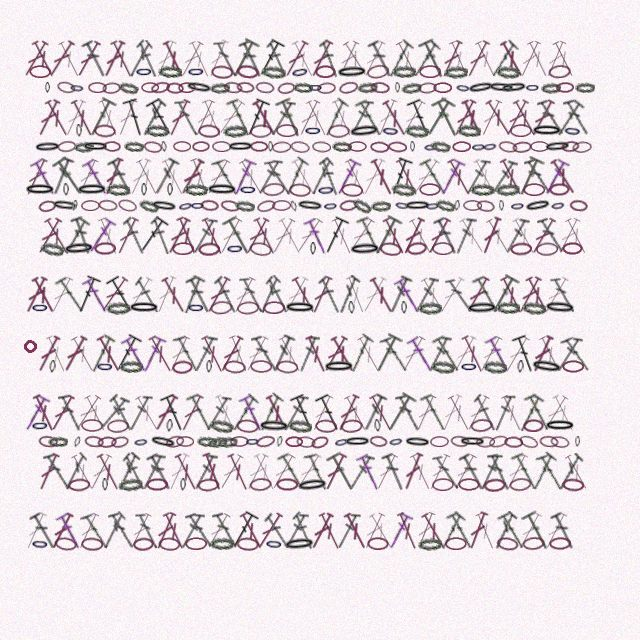chain: (530, 358, 563, 375), (348, 123, 381, 139), (296, 477, 329, 493), (283, 536, 316, 552), (63, 241, 95, 256), (544, 300, 576, 315), (336, 65, 368, 79), (349, 242, 381, 256), (466, 301, 498, 315), (258, 419, 290, 433), (149, 434, 177, 450), (185, 80, 213, 95), (467, 80, 495, 95), (524, 198, 552, 213), (531, 124, 563, 137), (24, 183, 56, 196), (76, 183, 108, 196), (206, 183, 238, 196), (128, 301, 160, 314), (284, 301, 316, 314), (323, 360, 355, 373), (544, 419, 576, 432), (366, 63, 390, 80), (40, 241, 65, 257), (209, 418, 234, 434), (351, 197, 373, 215), (150, 199, 178, 213), (391, 182, 416, 197), (495, 182, 520, 197), (118, 477, 143, 492), (249, 241, 272, 257), (379, 241, 402, 257), (54, 536, 77, 552), (496, 536, 519, 552), (500, 81, 528, 94), (51, 199, 79, 212), (296, 199, 324, 212), (138, 198, 160, 214), (488, 81, 515, 94), (544, 140, 571, 153), (261, 65, 286, 79), (236, 64, 259, 79), (548, 64, 571, 79), (262, 182, 285, 197), (210, 300, 233, 315), (470, 418, 493, 433), (249, 477, 272, 492), (509, 477, 532, 492), (522, 536, 545, 551), (444, 65, 468, 79), (496, 65, 520, 79), (223, 124, 247, 138), (405, 124, 429, 138), (256, 198, 277, 214), (106, 301, 130, 315), (418, 301, 442, 315), (522, 301, 546, 315), (431, 360, 455, 374), (483, 360, 507, 374), (288, 419, 312, 433), (518, 434, 539, 450), (418, 537, 442, 551), (406, 241, 428, 256), (34, 141, 61, 153), (404, 436, 431, 448), (223, 360, 246, 374), (236, 419, 259, 433), (340, 419, 363, 433), (197, 478, 220, 492), (483, 478, 506, 492), (158, 537, 181, 551), (236, 537, 259, 551), (290, 64, 310, 80), (310, 434, 330, 450), (150, 80, 171, 95), (338, 80, 359, 95), (117, 198, 138, 213), (435, 198, 456, 213), (255, 434, 276, 449), (488, 434, 509, 449), (158, 65, 182, 78), (392, 65, 416, 78), (145, 124, 169, 137), (457, 124, 481, 137), (106, 183, 130, 196), (184, 183, 208, 196), (470, 183, 494, 196), (496, 301, 520, 314), (119, 360, 143, 373), (210, 537, 234, 550), (211, 65, 233, 79), (94, 124, 116, 138), (198, 124, 220, 138), (250, 124, 272, 138), (328, 124, 350, 138), (289, 183, 311, 197), (341, 183, 363, 197), (198, 242, 220, 256), (510, 242, 532, 256), (536, 242, 558, 256), (237, 301, 259, 315), (276, 360, 298, 374), (107, 419, 129, 433), (315, 419, 337, 433), (68, 478, 90, 492), (562, 478, 584, 492), (81, 537, 103, 551), (56, 80, 76, 95), (165, 434, 185, 449), (82, 141, 109, 152), (227, 141, 254, 152), (404, 200, 431, 211), (344, 436, 371, 447), (459, 436, 486, 447), (118, 81, 139, 95), (401, 81, 422, 95), (172, 360, 193, 374), (207, 435, 228, 449), (133, 537, 154, 551), (29, 65, 51, 78), (419, 65, 441, 78), (276, 124, 298, 137), (510, 124, 532, 137), (419, 183, 441, 196), (523, 183, 545, 196), (94, 242, 116, 255), (172, 242, 194, 255), (432, 242, 454, 255), (263, 301, 285, 314), (250, 360, 272, 373), (562, 360, 584, 373), (81, 419, 103, 432), (146, 478, 168, 491), (276, 478, 298, 491), (432, 478, 454, 491), (458, 478, 480, 491), (185, 537, 207, 550), (367, 537, 389, 550), (445, 537, 467, 550), (549, 537, 571, 550), (143, 140, 163, 154), (290, 140, 310, 154), (498, 140, 518, 154), (220, 199, 240, 213), (110, 435, 130, 449), (550, 435, 570, 449), (315, 65, 336, 78), (357, 81, 378, 94), (430, 140, 451, 153), (549, 183, 570, 196), (562, 242, 583, 255), (523, 419, 544, 432), (277, 81, 296, 95), (381, 124, 400, 138), (563, 124, 582, 138), (38, 199, 57, 213), (476, 199, 495, 213), (223, 81, 243, 94), (255, 81, 275, 94), (370, 81, 390, 94), (57, 140, 77, 153), (98, 199, 118, 212), (38, 435, 58, 448), (84, 435, 104, 448), (450, 435, 470, 448), (539, 435, 559, 448), (317, 183, 335, 197), (217, 436, 238, 448), (31, 537, 49, 551), (265, 537, 283, 551), (236, 81, 255, 94), (561, 140, 580, 153), (200, 199, 219, 212), (339, 199, 358, 212), (569, 199, 588, 212), (369, 435, 388, 448), (210, 82, 230, 94), (541, 82, 561, 94), (74, 141, 94, 153), (512, 141, 532, 153), (572, 141, 592, 153), (235, 200, 255, 212), (371, 200, 391, 212), (97, 436, 117, 448), (296, 436, 316, 448), (177, 199, 194, 213), (333, 435, 350, 449), (135, 65, 153, 78), (187, 65, 205, 78), (304, 124, 322, 137), (239, 183, 257, 196), (226, 242, 244, 255), (31, 301, 49, 314), (187, 301, 205, 314), (96, 360, 114, 373), (460, 360, 478, 373), (31, 419, 49, 432), (102, 82, 121, 94), (317, 82, 336, 94), (418, 82, 437, 94), (272, 141, 291, 153), (312, 141, 331, 153), (370, 141, 389, 153), (388, 141, 407, 153), (476, 436, 495, 448), (504, 436, 523, 448), (293, 82, 313, 93), (575, 82, 595, 93), (124, 141, 144, 152), (332, 141, 352, 152), (48, 436, 68, 447), (197, 436, 217, 447), (166, 82, 184, 94), (88, 82, 107, 93), (433, 82, 452, 93), (212, 141, 231, 152), (348, 141, 367, 152), (452, 141, 471, 152), (530, 141, 549, 152), (81, 200, 100, 211), (272, 200, 291, 211), (463, 200, 482, 211), (230, 436, 249, 447), (430, 436, 449, 447), (482, 140, 498, 153), (394, 199, 410, 212), (550, 199, 566, 212), (388, 435, 404, 448), (141, 82, 159, 93), (178, 82, 196, 93), (556, 82, 574, 93), (103, 141, 121, 152), (173, 141, 191, 152), (192, 141, 210, 152), (250, 141, 268, 152), (176, 436, 194, 447), (285, 436, 303, 447), (69, 82, 85, 94), (455, 82, 471, 94), (423, 141, 439, 153), (133, 436, 149, 448), (471, 141, 486, 153), (323, 200, 338, 212), (425, 200, 440, 212), (510, 200, 525, 212), (308, 82, 323, 93), (525, 82, 540, 93), (190, 200, 205, 211), (245, 436, 260, 447), (290, 200, 298, 212), (73, 436, 81, 448), (348, 301, 355, 314), (49, 360, 56, 373), (517, 360, 524, 373), (166, 419, 173, 432), (374, 419, 381, 432), (76, 124, 82, 137), (63, 183, 69, 196), (141, 183, 147, 196), (167, 183, 173, 196), (310, 242, 316, 255), (401, 301, 407, 314), (206, 360, 212, 373), (102, 478, 108, 491), (180, 478, 186, 491), (71, 200, 78, 211), (276, 436, 283, 447), (161, 141, 167, 152), (454, 200, 460, 211), (45, 82, 50, 93), (395, 82, 400, 93), (268, 141, 273, 152), (410, 141, 415, 152), (499, 200, 504, 211), (575, 436, 580, 447)
double: (52, 156, 87, 197), (135, 215, 170, 256), (422, 97, 456, 139), (383, 392, 417, 434), (222, 215, 255, 257), (370, 215, 403, 257), (487, 274, 520, 316), (326, 451, 359, 493), (521, 510, 554, 552), (105, 274, 138, 315), (227, 510, 260, 551), (228, 38, 260, 80), (85, 97, 117, 139), (431, 97, 463, 139), (371, 333, 403, 375), (409, 39, 442, 79), (487, 39, 520, 79), (552, 98, 585, 138), (560, 334, 593, 374), (254, 38, 286, 79), (145, 97, 177, 138), (111, 333, 143, 374), (418, 38, 449, 80), (275, 97, 306, 139), (514, 156, 545, 198), (314, 392, 345, 434), (59, 216, 91, 256), (54, 275, 86, 315), (379, 334, 411, 374), (228, 393, 260, 433), (320, 215, 350, 257), (159, 392, 189, 434), (289, 392, 319, 434), (215, 98, 247, 137), (410, 157, 442, 196), (85, 216, 117, 255), (293, 216, 325, 255), (345, 216, 377, 255), (98, 275, 130, 314), (72, 393, 104, 432), (20, 39, 51, 79), (384, 39, 415, 79), (236, 157, 267, 197), (418, 157, 449, 197), (483, 216, 514, 256), (124, 275, 155, 315), (418, 275, 449, 315), (436, 275, 467, 315), (431, 334, 462, 374), (132, 393, 163, 433), (514, 393, 545, 433), (540, 393, 571, 433), (535, 452, 566, 492), (80, 511, 111, 551), (366, 511, 397, 551), (436, 511, 467, 551), (496, 511, 527, 551), (320, 97, 350, 138), (471, 274, 501, 315), (86, 333, 116, 374), (172, 333, 202, 374), (255, 392, 285, 433), (276, 451, 306, 492), (528, 451, 558, 492), (445, 510, 475, 551), (242, 97, 271, 139), (406, 97, 435, 139), (73, 274, 102, 316), (46, 39, 77, 78), (340, 39, 371, 78), (483, 98, 514, 137), (548, 157, 579, 196), (457, 216, 488, 255), (293, 452, 324, 491), (254, 511, 285, 550), (73, 39, 103, 79), (281, 39, 311, 79), (497, 39, 527, 79), (42, 98, 72, 138), (250, 98, 280, 138), (354, 98, 384, 138), (380, 98, 410, 138), (398, 98, 428, 138), (510, 98, 540, 138), (29, 157, 59, 197), (81, 157, 111, 197), (177, 157, 207, 197), (203, 157, 233, 197), (211, 157, 241, 197), (289, 157, 319, 197), (34, 216, 64, 256), (42, 216, 72, 256), (242, 216, 272, 256), (268, 216, 298, 256), (406, 216, 436, 256), (528, 216, 558, 256), (81, 275, 111, 315), (159, 275, 189, 315), (203, 275, 233, 315), (281, 275, 311, 315), (289, 275, 319, 315), (359, 275, 389, 315), (367, 275, 397, 315), (393, 275, 423, 315), (541, 275, 571, 315), (60, 334, 90, 374), (68, 334, 98, 374), (94, 334, 124, 374), (120, 334, 150, 374), (146, 334, 176, 374), (216, 334, 246, 374), (320, 334, 350, 374), (328, 334, 358, 374), (354, 334, 384, 374), (398, 334, 428, 374), (406, 334, 436, 374), (502, 334, 532, 374), (21, 393, 51, 433), (47, 393, 77, 433), (151, 393, 181, 433), (341, 393, 371, 433), (68, 452, 98, 492), (216, 452, 246, 492), (268, 452, 298, 492), (458, 452, 488, 492), (562, 452, 592, 492), (29, 511, 59, 551), (203, 511, 233, 551), (419, 511, 449, 551), (281, 156, 310, 197), (346, 333, 375, 374), (185, 392, 214, 433), (419, 392, 448, 433), (523, 392, 552, 433), (510, 451, 539, 492), (386, 156, 414, 198), (511, 333, 539, 375), (29, 39, 58, 79), (55, 39, 84, 79), (81, 39, 110, 79), (177, 39, 206, 79), (289, 39, 318, 79), (307, 39, 336, 79), (367, 39, 396, 79), (393, 39, 422, 79), (463, 39, 492, 79), (34, 98, 63, 138), (68, 98, 97, 138), (450, 98, 479, 138), (502, 98, 531, 138), (528, 98, 557, 138), (107, 157, 136, 197), (133, 157, 162, 197), (151, 157, 180, 197), (159, 157, 188, 197), (333, 157, 362, 197), (359, 157, 388, 197), (393, 157, 422, 197), (437, 157, 466, 197), (445, 157, 474, 197), (471, 157, 500, 197), (497, 157, 526, 197), (541, 157, 570, 197), (164, 216, 193, 256), (216, 216, 245, 256), (276, 216, 305, 256), (380, 216, 409, 256), (424, 216, 453, 256), (510, 216, 539, 256), (554, 216, 583, 256), (562, 216, 591, 256), (29, 275, 58, 315), (47, 275, 76, 315), (185, 275, 214, 315), (463, 275, 492, 315), (515, 275, 544, 315), (523, 275, 552, 315), (34, 334, 63, 374), (242, 334, 271, 374), (276, 334, 305, 374), (450, 334, 479, 374), (476, 334, 505, 374), (484, 334, 513, 374), (536, 334, 565, 374), (81, 393, 110, 433), (177, 393, 206, 433), (263, 393, 292, 433), (367, 393, 396, 433), (445, 393, 474, 433), (463, 393, 492, 433), (86, 452, 115, 492), (94, 452, 123, 492), (146, 452, 175, 492), (172, 452, 201, 492), (372, 452, 401, 492), (450, 452, 479, 492), (502, 452, 531, 492), (47, 511, 76, 551), (55, 511, 84, 551), (237, 511, 266, 551), (307, 511, 336, 551), (341, 511, 370, 551), (385, 511, 414, 551), (515, 511, 544, 551), (541, 511, 570, 551), (98, 395, 130, 431), (225, 97, 253, 138), (355, 215, 383, 256), (178, 274, 206, 315), (303, 451, 331, 492), (554, 453, 584, 491), (138, 98, 167, 137), (185, 511, 214, 550), (100, 39, 128, 79), (108, 39, 136, 79), (160, 39, 188, 79), (186, 39, 214, 79), (238, 39, 266, 79), (334, 39, 362, 79), (360, 39, 388, 79), (472, 39, 500, 79), (516, 39, 544, 79), (524, 39, 552, 79), (550, 39, 578, 79), (61, 98, 89, 138), (165, 98, 193, 138), (295, 98, 323, 138), (303, 98, 331, 138), (477, 98, 505, 138), (22, 157, 50, 197), (126, 157, 154, 197), (342, 157, 370, 197), (368, 157, 396, 197), (113, 216, 141, 256), (199, 216, 227, 256), (251, 216, 279, 256), (399, 216, 427, 256), (433, 216, 461, 256), (22, 275, 50, 315), (230, 275, 258, 315), (498, 275, 526, 315), (139, 334, 167, 374), (165, 334, 193, 374), (199, 334, 227, 374), (459, 334, 487, 374), (30, 393, 58, 433), (212, 393, 240, 433), (238, 393, 266, 433), (308, 393, 336, 433), (334, 393, 362, 433), (360, 393, 388, 433), (498, 393, 526, 433), (550, 393, 578, 433), (243, 452, 271, 492), (251, 452, 279, 492), (321, 452, 349, 492), (355, 452, 383, 492), (407, 452, 435, 492), (425, 452, 453, 492), (74, 511, 102, 551), (126, 511, 154, 551), (160, 511, 188, 551), (316, 511, 344, 551), (360, 511, 388, 551), (550, 511, 578, 551), (489, 158, 518, 196), (133, 276, 162, 314), (445, 276, 474, 314), (432, 453, 461, 491), (263, 512, 292, 550), (537, 98, 565, 137), (524, 157, 552, 196), (537, 216, 565, 255), (43, 452, 71, 491), (113, 452, 141, 491), (490, 511, 518, 550), (152, 39, 179, 79), (438, 39, 465, 79), (446, 39, 473, 79), (542, 39, 569, 79), (191, 98, 218, 138), (199, 98, 226, 138), (329, 98, 356, 138), (459, 98, 486, 138), (74, 157, 101, 197), (230, 157, 257, 197), (95, 216, 122, 256), (303, 216, 330, 256), (329, 216, 356, 256), (308, 275, 335, 315), (386, 275, 413, 315), (43, 334, 70, 374), (269, 334, 296, 374), (303, 334, 330, 374), (529, 334, 556, 374), (412, 393, 439, 433), (438, 393, 465, 433), (35, 452, 62, 492), (165, 452, 192, 492), (225, 452, 252, 492), (381, 452, 408, 492), (22, 511, 49, 551), (152, 511, 179, 551), (394, 511, 421, 551), (472, 511, 499, 551), (205, 38, 231, 79), (96, 97, 122, 138), (114, 97, 140, 138), (122, 97, 148, 138), (374, 97, 400, 138), (49, 156, 75, 197), (187, 156, 213, 197), (174, 215, 200, 256), (478, 215, 504, 256), (153, 274, 179, 315), (343, 274, 369, 315), (226, 333, 252, 374), (400, 451, 426, 492), (126, 40, 154, 78), (264, 158, 292, 196), (555, 335, 583, 373), (204, 394, 232, 432), (347, 453, 375, 491), (563, 98, 590, 137), (256, 157, 283, 196), (308, 157, 335, 196), (464, 157, 491, 196), (191, 216, 218, 255), (503, 216, 530, 255), (264, 275, 291, 314), (334, 275, 361, 314), (550, 275, 577, 314), (251, 334, 278, 373), (108, 393, 135, 432), (282, 393, 309, 432), (472, 393, 499, 432), (121, 452, 148, 491), (100, 511, 127, 550), (108, 511, 135, 550), (212, 511, 239, 550), (395, 393, 421, 433), (269, 99, 296, 137), (101, 156, 126, 197), (70, 215, 95, 256), (200, 451, 225, 492), (413, 510, 438, 551), (465, 510, 490, 551), (213, 39, 239, 78), (174, 98, 200, 137), (348, 98, 374, 137), (213, 275, 239, 314), (239, 275, 265, 314), (317, 275, 343, 314), (413, 275, 439, 314), (192, 334, 218, 373), (426, 334, 452, 373), (127, 393, 153, 432), (62, 452, 88, 491), (140, 452, 166, 491), (192, 452, 218, 491), (179, 511, 205, 550), (283, 511, 309, 550), (335, 511, 361, 550), (135, 39, 160, 78), (265, 39, 290, 78), (122, 216, 147, 255), (257, 275, 282, 314), (478, 452, 503, 491), (135, 511, 160, 550), (291, 511, 316, 550), (58, 393, 82, 433), (487, 452, 511, 492), (149, 216, 173, 255), (453, 216, 477, 255), (492, 393, 516, 432), (318, 39, 341, 78), (318, 157, 341, 196), (297, 334, 320, 373)
noise: (22, 338, 38, 354)
